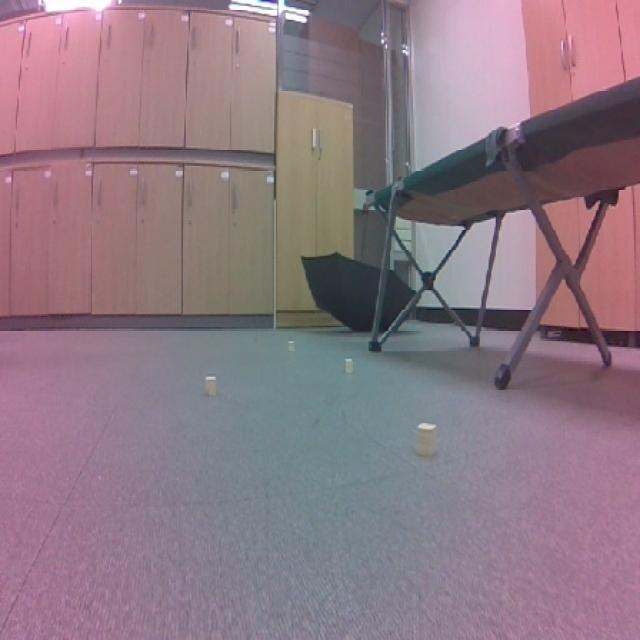obstacle: (409, 419, 448, 460)
